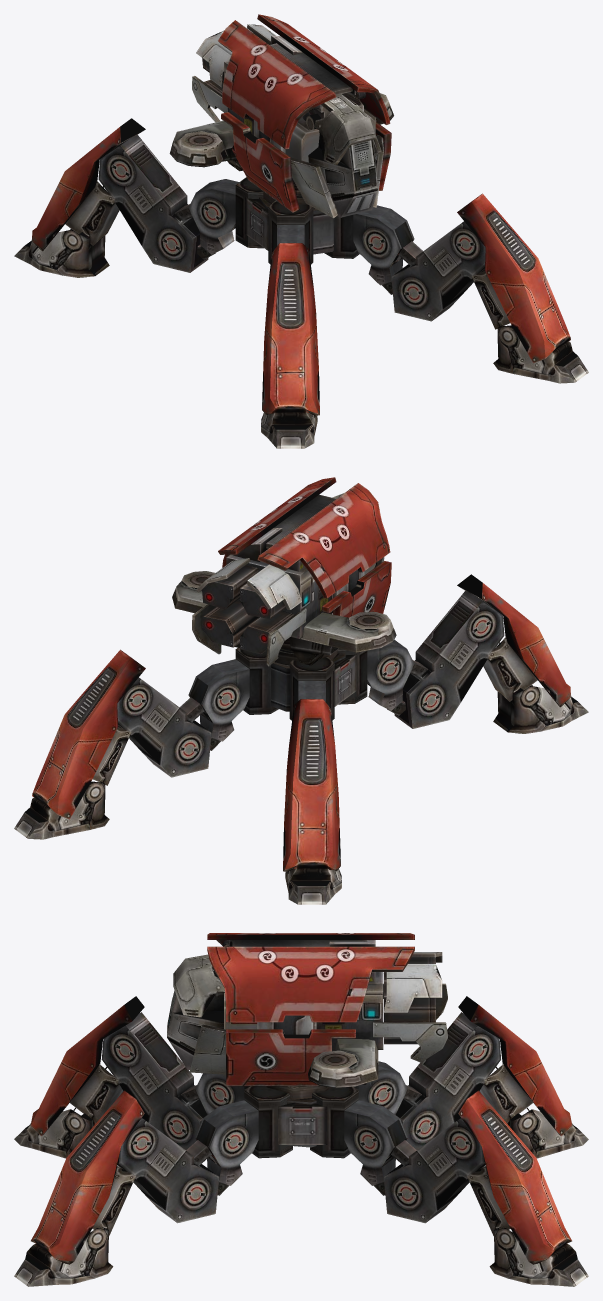
The model's file is bastion_2mb_v1.gltf.
3 views of the same model, one above another, from view 1: azimuth 30°, elevation 25°; view 2: azimuth 150°, elevation 25°; view 3: azimuth 270°, elevation 25° (orthographic). The views are drawn at different scales.
Visible parts, largest first — view 1: bastion_body2, bastion_shield2, Bastion_Right_Front_Lower_LegMesh2, Bastion_Right_Back_Middle_LegMesh, Bastion_Left_Front_Lower_LegMesh2, Bastion_Left_Front_Middle_LegMesh, bastion_body1, bastion_body3, Bastion_Right_Back_Lower_LegMesh2, Bastion_Left_Front_Base_LegMesh, Bastion_Right_Back_Foot_LegMesh, Bastion_Left_Front_Foot_LegMesh (+5 smaller); view 2: bastion_body2, bastion_shield2, Bastion_Right_Back_Lower_LegMesh2, Bastion_Right_Front_Middle_LegMesh, Bastion_Left_Back_Lower_LegMesh2, bastion_body1, Bastion_Left_Back_Middle_LegMesh, Bastion_Right_Front_Lower_LegMesh2, Bastion_Left_Back_Base_LegMesh, Bastion_Right_Front_Foot_LegMesh, Bastion_Left_Back_Foot_LegMesh, Bastion_Right_Front_Base_LegMesh (+5 smaller); view 3: bastion_body2, bastion_shield2, Bastion_Left_Front_Lower_LegMesh2, Bastion_Left_Back_Lower_LegMesh2, Bastion_Right_Front_Middle_LegMesh, Bastion_Right_Back_Middle_LegMesh, bastion_body1, Bastion_Left_Front_Middle_LegMesh, Bastion_Left_Back_Middle_LegMesh, bastion_body3, Bastion_Right_Front_Lower_LegMesh2, Bastion_Right_Back_Lower_LegMesh2 (+13 smaller).
Boxes of the visible parts, bbox=[...] form: bastion_body2: bbox=[169, 24, 393, 218]; bastion_shield2: bbox=[218, 14, 390, 149]; Bastion_Right_Front_Lower_LegMesh2: bbox=[262, 243, 319, 415]; Bastion_Right_Back_Middle_LegMesh: bbox=[98, 135, 208, 272]; Bastion_Left_Front_Lower_LegMesh2: bbox=[457, 193, 570, 363]; Bastion_Left_Front_Middle_LegMesh: bbox=[391, 221, 485, 321]; bastion_body1: bbox=[235, 177, 359, 264]; bastion_body3: bbox=[221, 112, 391, 212]; Bastion_Right_Back_Lower_LegMesh2: bbox=[32, 118, 145, 251]; Bastion_Left_Front_Base_LegMesh: bbox=[353, 205, 414, 294]; Bastion_Right_Back_Foot_LegMesh: bbox=[14, 229, 109, 277]; Bastion_Left_Front_Foot_LegMesh: bbox=[493, 325, 588, 383]; bastion_body2: bbox=[172, 493, 396, 666]; bastion_shield2: bbox=[218, 477, 390, 598]; Bastion_Right_Back_Lower_LegMesh2: bbox=[283, 699, 340, 871]; Bastion_Right_Front_Middle_LegMesh: bbox=[394, 591, 504, 728]; Bastion_Left_Back_Lower_LegMesh2: bbox=[32, 649, 145, 819]; bastion_body1: bbox=[235, 647, 367, 720]; Bastion_Left_Back_Middle_LegMesh: bbox=[117, 677, 211, 777]; Bastion_Right_Front_Lower_LegMesh2: bbox=[457, 574, 570, 707]; Bastion_Left_Back_Base_LegMesh: bbox=[188, 659, 249, 750]; Bastion_Right_Front_Foot_LegMesh: bbox=[493, 686, 588, 733]; Bastion_Left_Back_Foot_LegMesh: bbox=[14, 780, 109, 839]; Bastion_Right_Front_Base_LegMesh: bbox=[367, 640, 414, 715]; bastion_body2: bbox=[167, 940, 447, 1087]; bastion_shield2: bbox=[207, 933, 414, 1022]; Bastion_Left_Front_Lower_LegMesh2: bbox=[31, 1090, 144, 1264]; Bastion_Left_Back_Lower_LegMesh2: bbox=[458, 1090, 571, 1264]; Bastion_Right_Front_Middle_LegMesh: bbox=[101, 1012, 206, 1149]; Bastion_Right_Back_Middle_LegMesh: bbox=[396, 1012, 500, 1149]; bastion_body1: bbox=[244, 1085, 358, 1158]; Bastion_Left_Front_Middle_LegMesh: bbox=[117, 1118, 219, 1223]; Bastion_Left_Back_Middle_LegMesh: bbox=[383, 1118, 485, 1223]; bastion_body3: bbox=[226, 1029, 355, 1086]; Bastion_Right_Front_Lower_LegMesh2: bbox=[30, 996, 144, 1136]; Bastion_Right_Back_Lower_LegMesh2: bbox=[458, 996, 572, 1136].
Size of the model in its own units: 18.14 by 14.29 by 27.87.
Materials: 2 (2 with a texture image).
